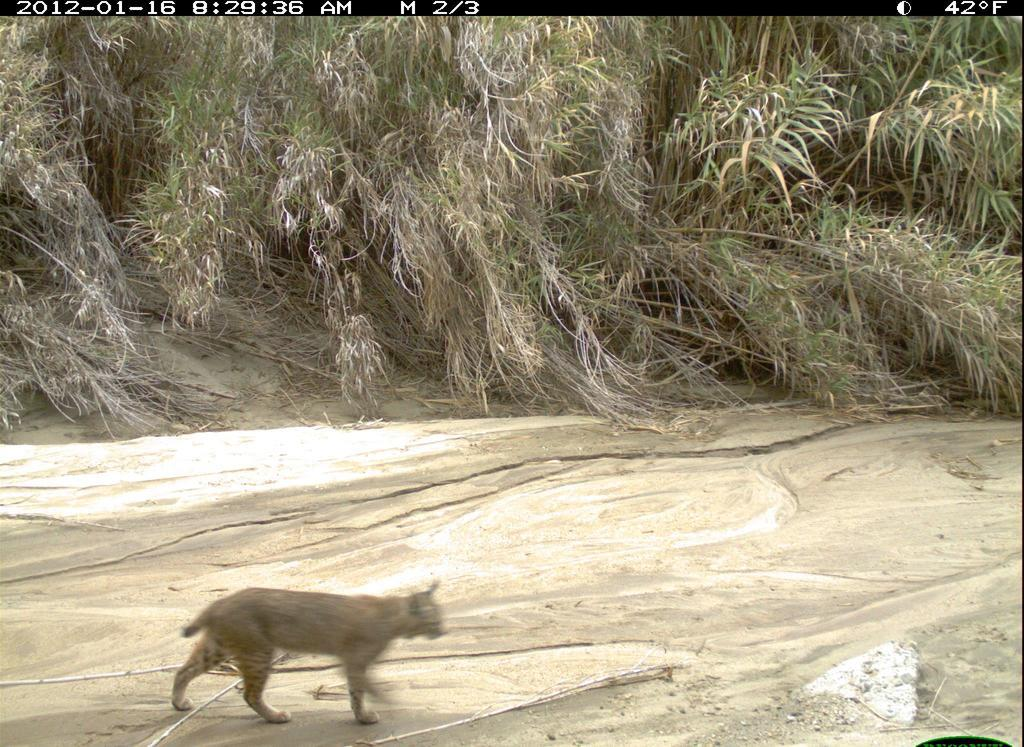bobcat: (161, 582, 452, 726)
